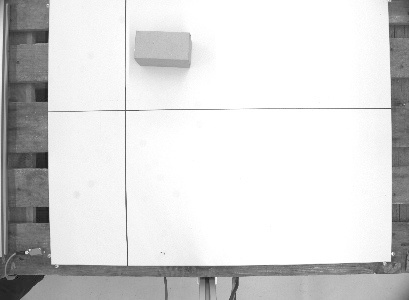b2: (131, 28, 195, 70)
